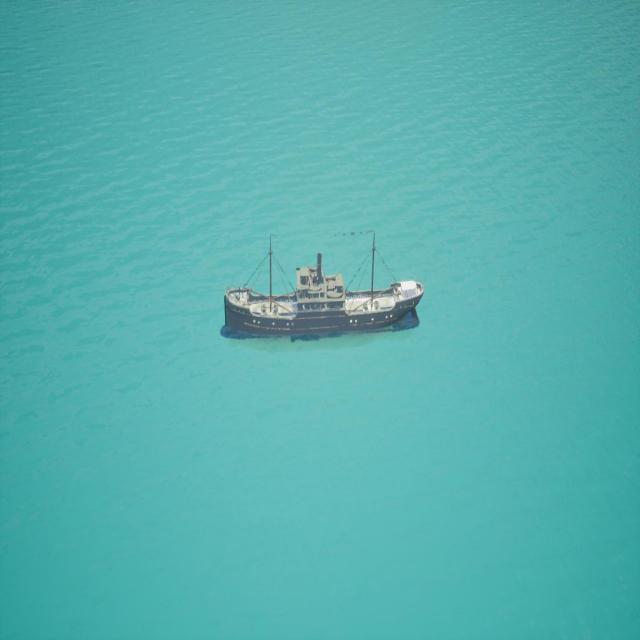fishing ship: (226, 233, 424, 340)
